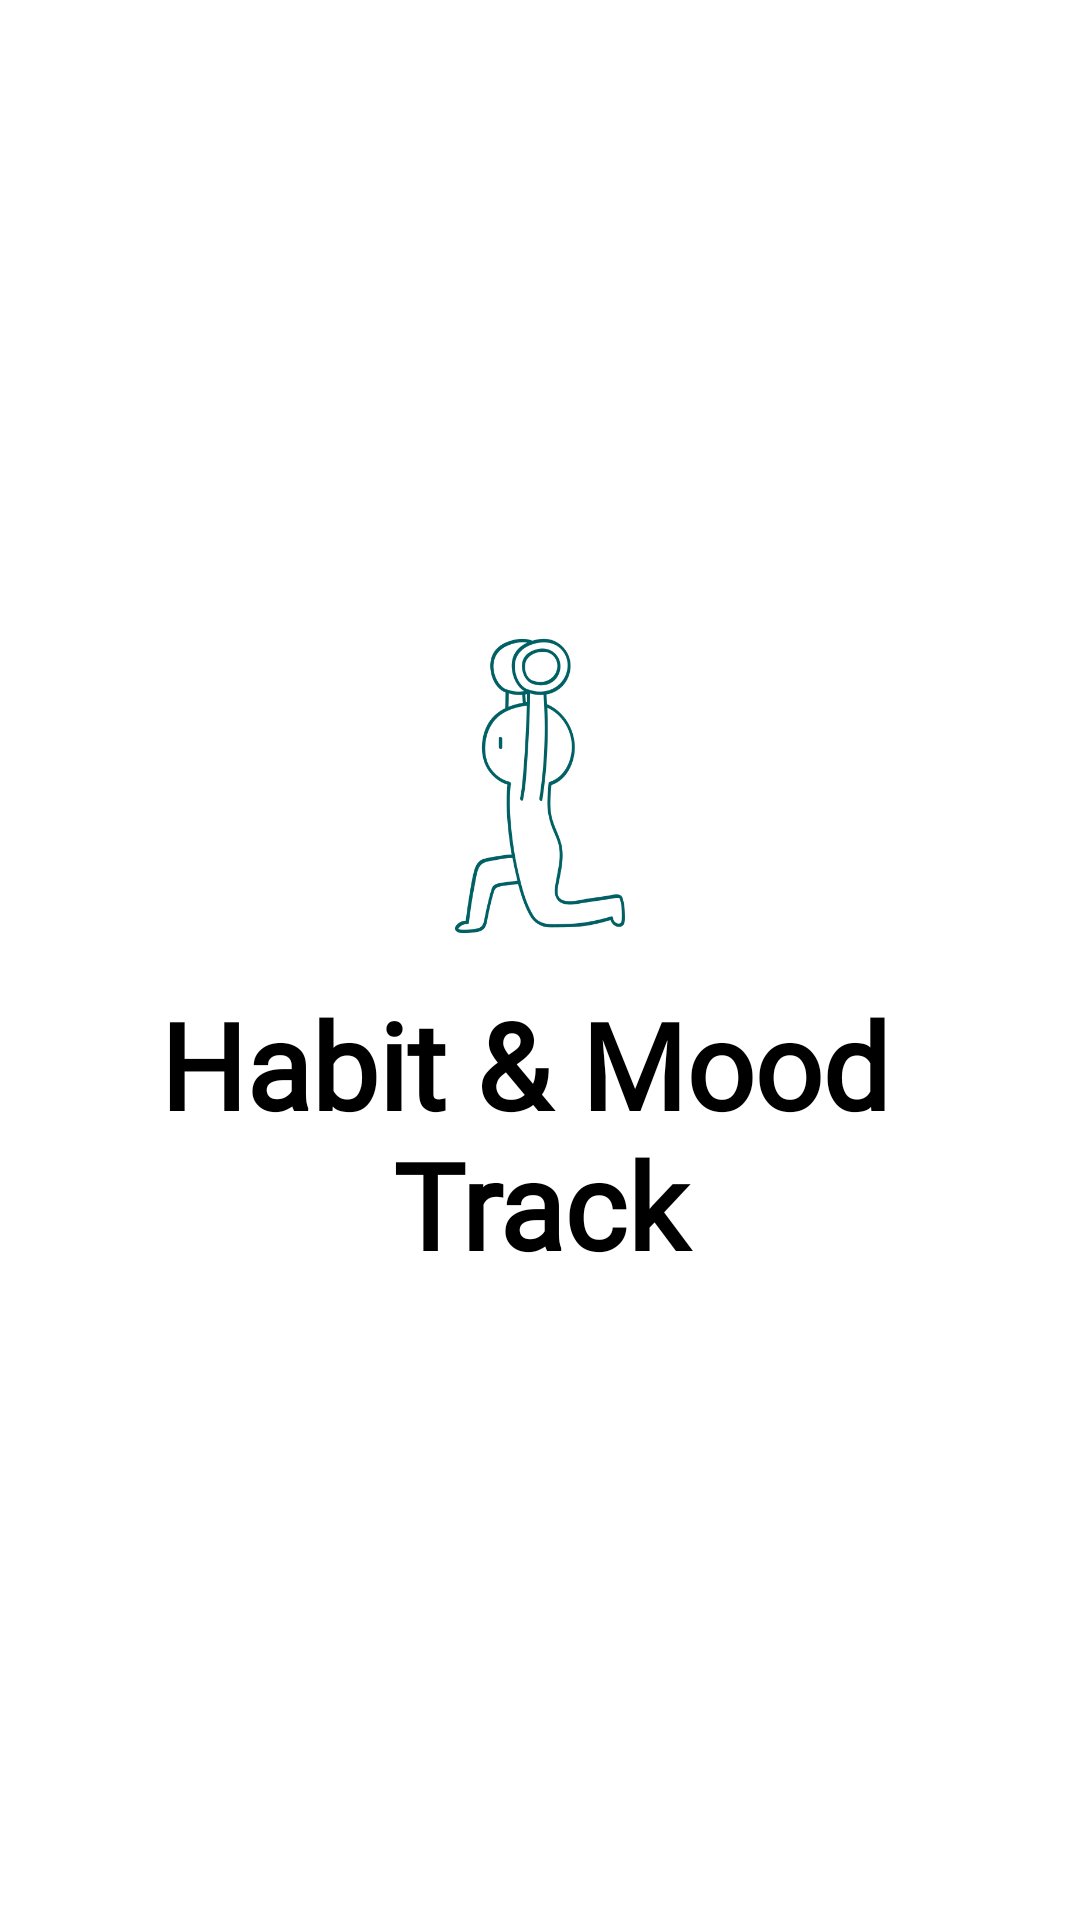

Icon click points for this 1080x1920 phone screenshot, format (x,y):
work out: (540,785)
